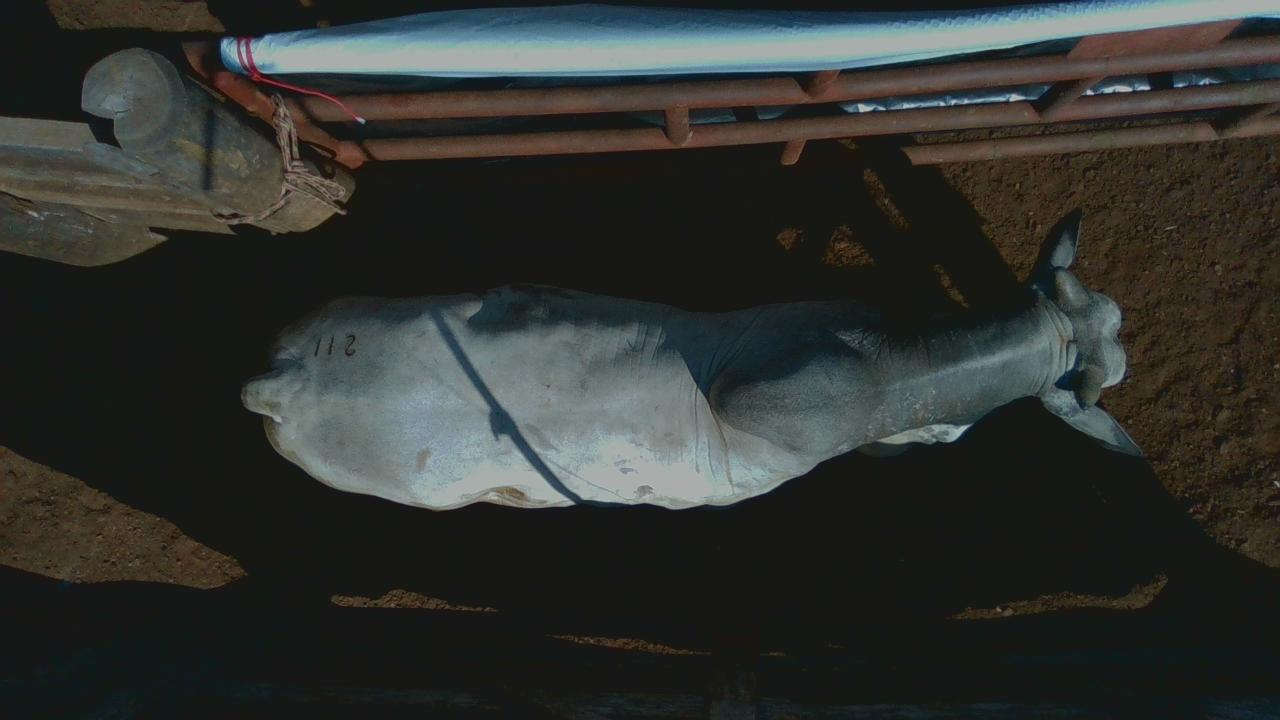cattle: (239, 204, 1145, 512)
